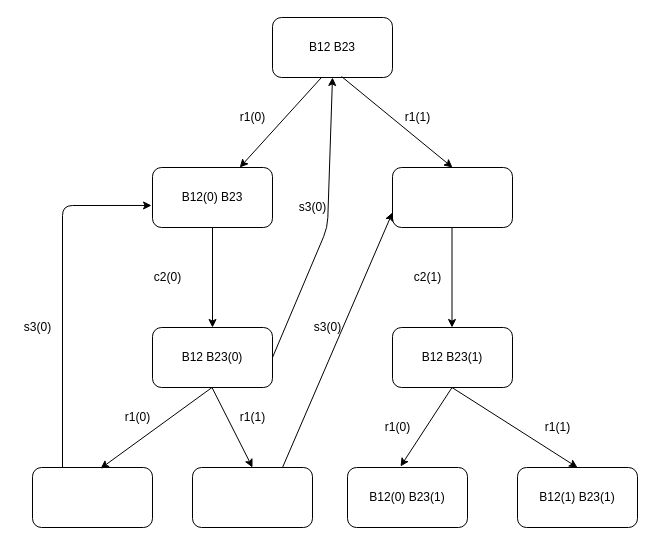
This 655x545 diagram has some shape labels left out. Each missing label, with the centre of its shape:
"B12(0) B23(0)" goes at [92,497].
"B12(1) B23" goes at [452,197].
"B12(1) B23(0)" goes at [252,497].
